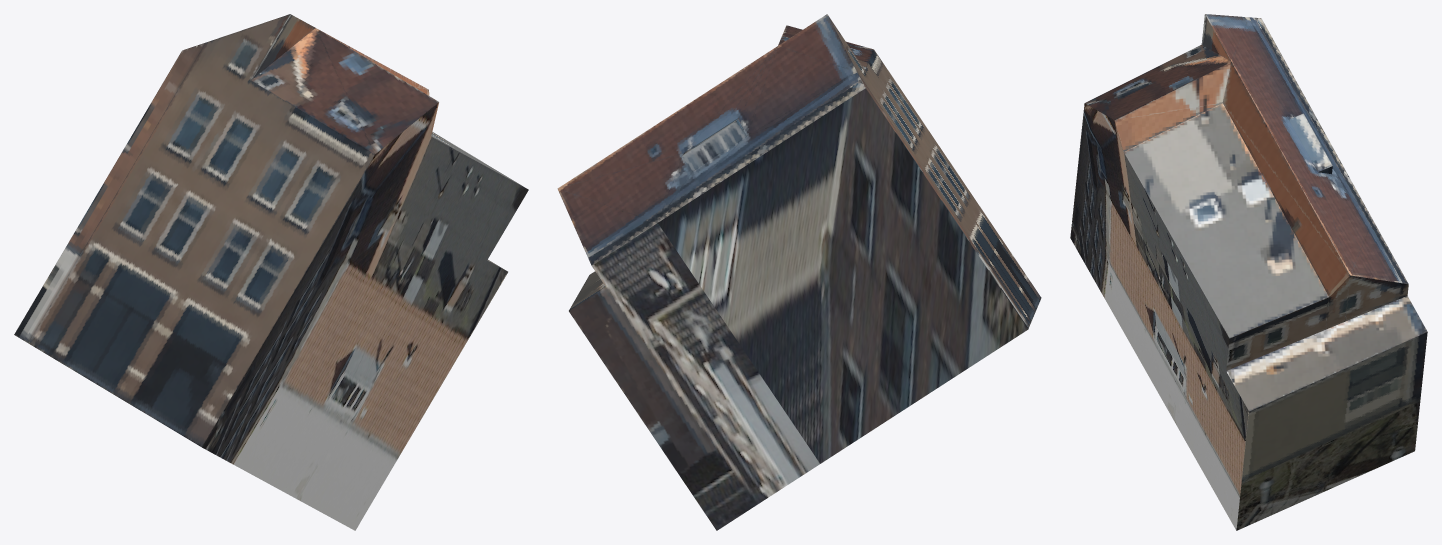
3 renders of one model, left to right at view 1: azimuth 30°, elevation 25°; view 2: azimuth 150°, elevation 25°; view 3: azimuth 270°, elevation 25°, orthographic. The views are drawn at different scales.
Parts seen in each view (by area): view 1: BAG_0599100000760381 (×4); view 2: BAG_0599100000760381 (×6); view 3: BAG_0599100000760381 (×6).
Boxes of the visible parts, x1,y1,x2,y2 form: BAG_0599100000760381 (×4): (14,14,528,530); BAG_0599100000760381 (×6): (558,14,1041,530); BAG_0599100000760381 (×6): (1070,14,1427,530).
Bounding box in the file's own units: 21.05 × 21.94 × 14.76.
Materials: 1 (1 with a texture image).
